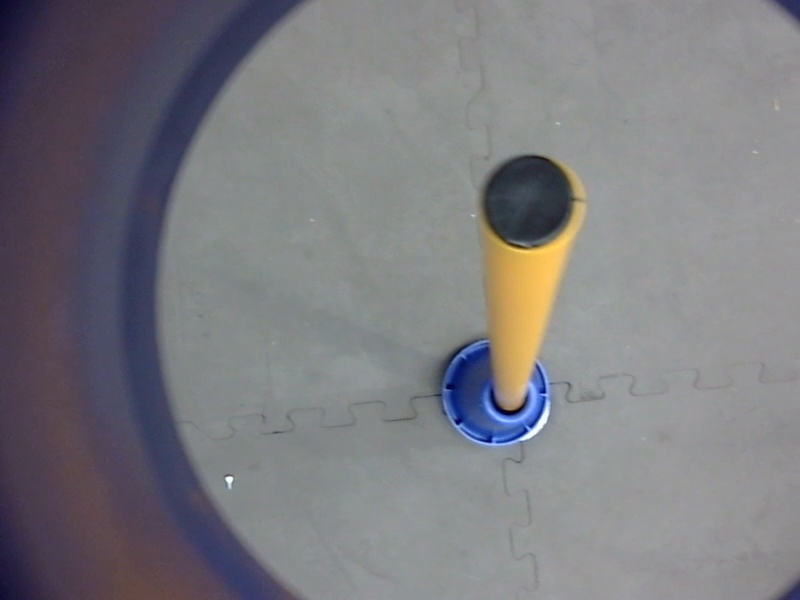tip: (477, 150, 584, 257)
